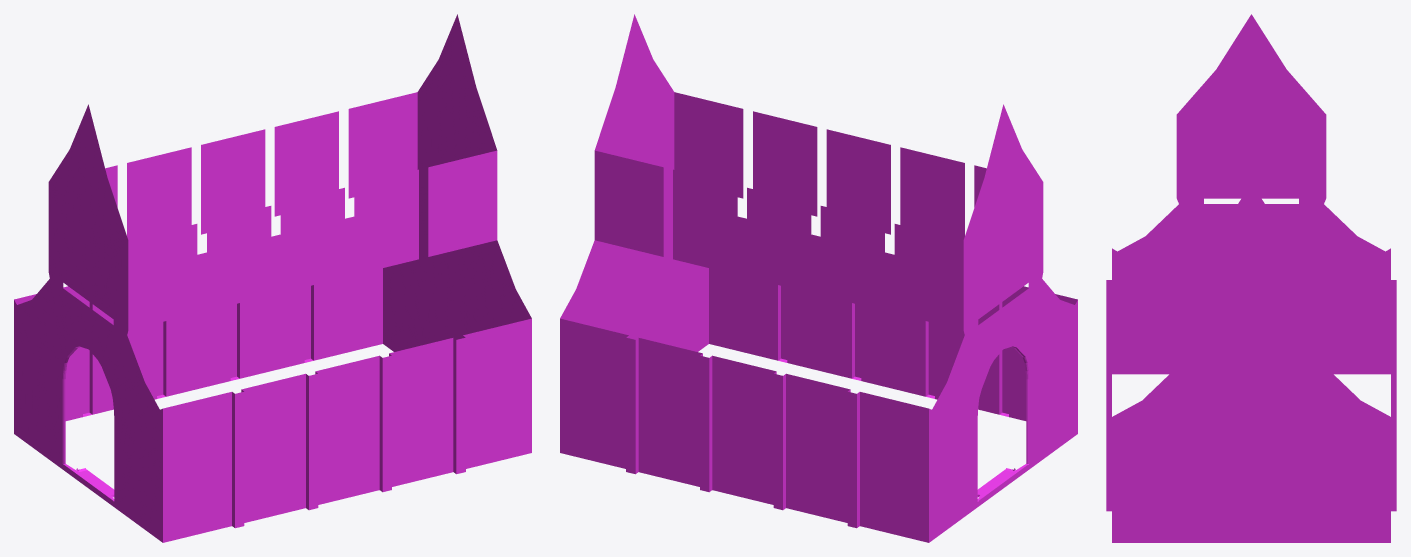
The model's file is ChurchBase.fbx.
3 renders of one model, left to right at view 1: azimuth 30°, elevation 25°; view 2: azimuth 150°, elevation 25°; view 3: azimuth 270°, elevation 25°, orthographic. The views are drawn at different scales.
Visible parts, largest first — view 1: ChurchBase; view 2: ChurchBase; view 3: ChurchBase.
Boxes of the visible parts, <box> form: ChurchBase: <box>14,14,531,542</box>; ChurchBase: <box>560,14,1077,542</box>; ChurchBase: <box>1106,14,1396,542</box>.
Bounding box in the file's own units: 19.5 × 19.42 × 14.19.
